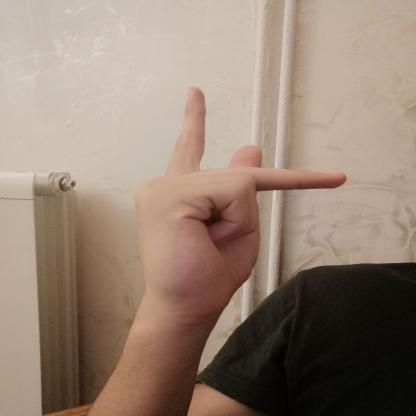DHAA: (119, 78, 363, 334)
